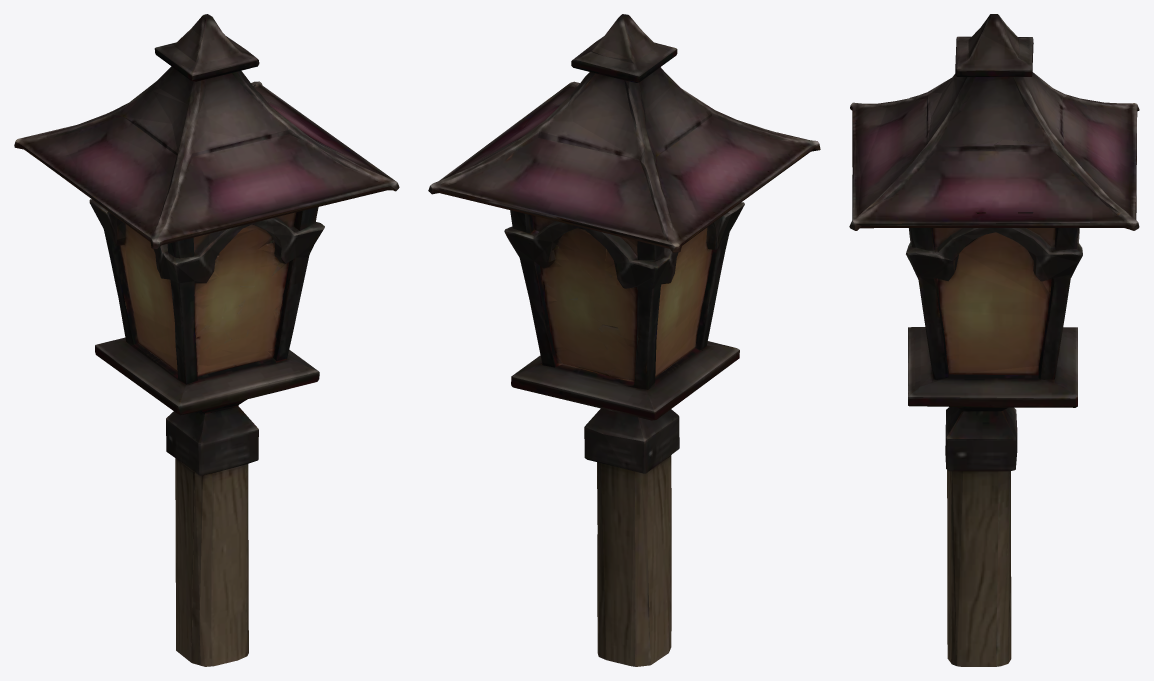
File: war_lantern_01.glb
3 views of the same model, side by side, from view 1: azimuth 30°, elevation 25°; view 2: azimuth 150°, elevation 25°; view 3: azimuth 270°, elevation 25° (orthographic).
Parts seen in each view (by area): view 1: geometry_0; view 2: geometry_0; view 3: geometry_0.
Part boxes in pixels (x1,y1,x2,y2): geometry_0: (14, 14, 399, 666); geometry_0: (428, 14, 820, 666); geometry_0: (849, 14, 1139, 666).
Bounding box in the file's own units: 0.4113 × 0.9985 × 0.4107.
1 material, 1 textured.
